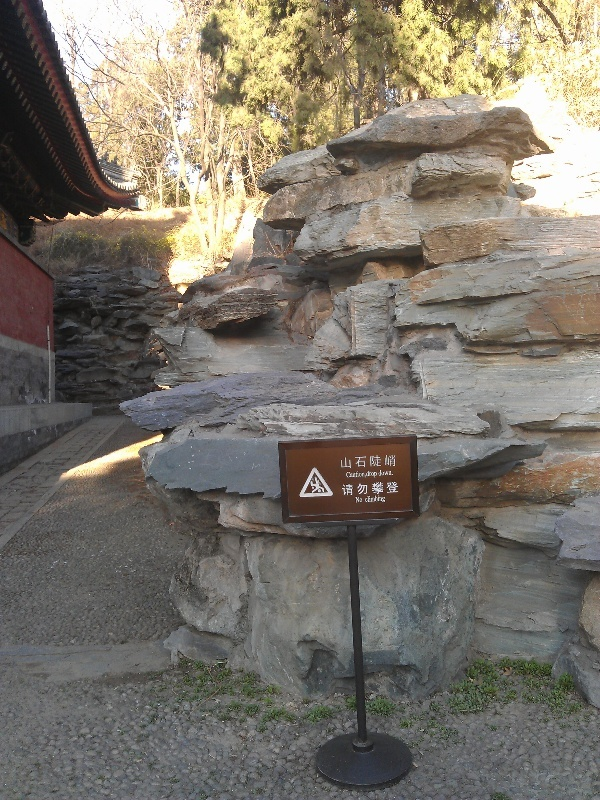text: (353, 454, 368, 470), (369, 454, 384, 470), (353, 481, 368, 497), (369, 481, 384, 497), (385, 481, 400, 497), (339, 454, 352, 470), (385, 454, 397, 470), (342, 481, 352, 497), (369, 494, 384, 504), (353, 471, 367, 480), (355, 496, 368, 504), (369, 470, 378, 479), (385, 469, 394, 477), (346, 471, 352, 480), (379, 469, 384, 477), (365, 494, 368, 504), (366, 470, 368, 479), (385, 494, 386, 504)
